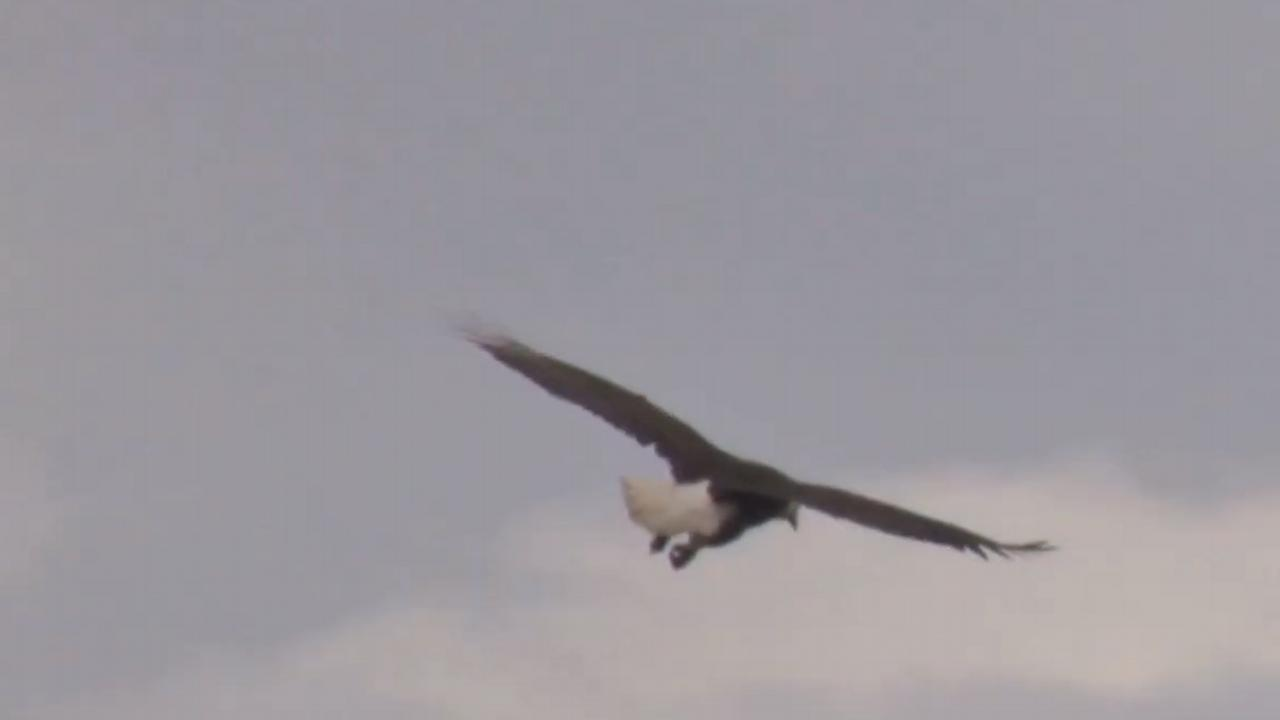Bird: (448, 322, 1069, 584)
